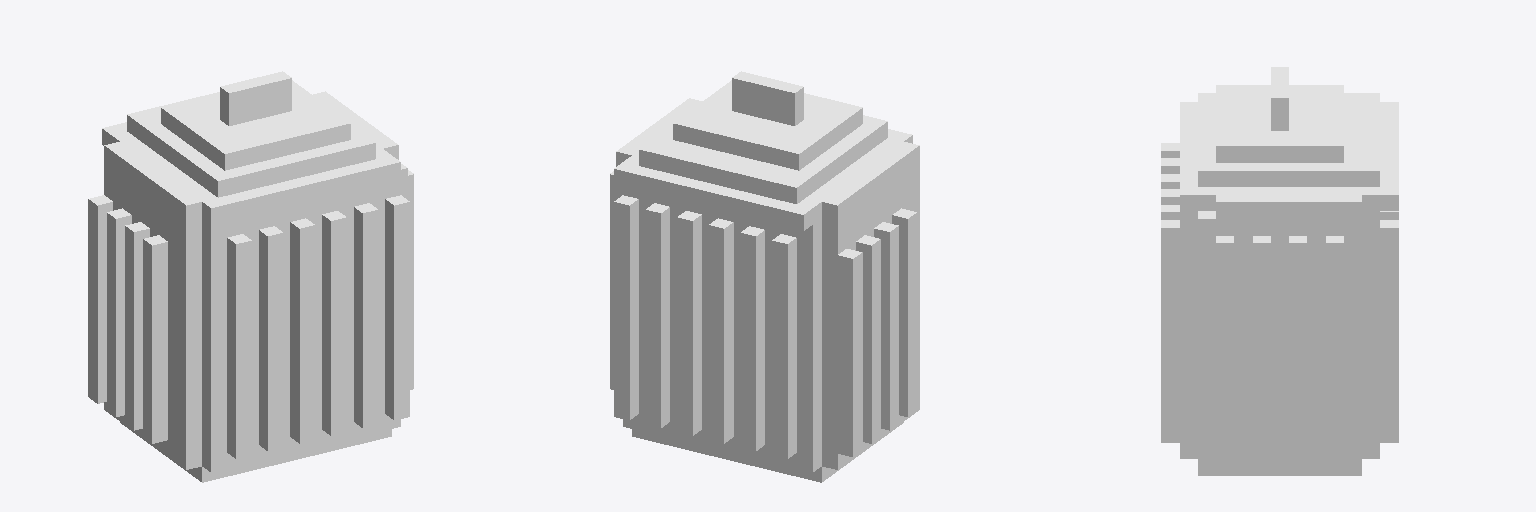
File: Trashcan.obj
3 views of the same model, side by side, from view 1: azimuth 30°, elevation 25°; view 2: azimuth 150°, elevation 25°; view 3: azimuth 270°, elevation 25° (orthographic).
Visible parts, largest first — view 1: object 1; view 2: object 1; view 3: object 1.
Boxes of the visible parts, x1=… form: object 1: x1=88, y1=71, x2=413, y2=482; object 1: x1=610, y1=71, x2=919, y2=482; object 1: x1=1161, y1=67, x2=1398, y2=475.
Size of the model in its own units: 1.6 by 2.1 by 1.3.